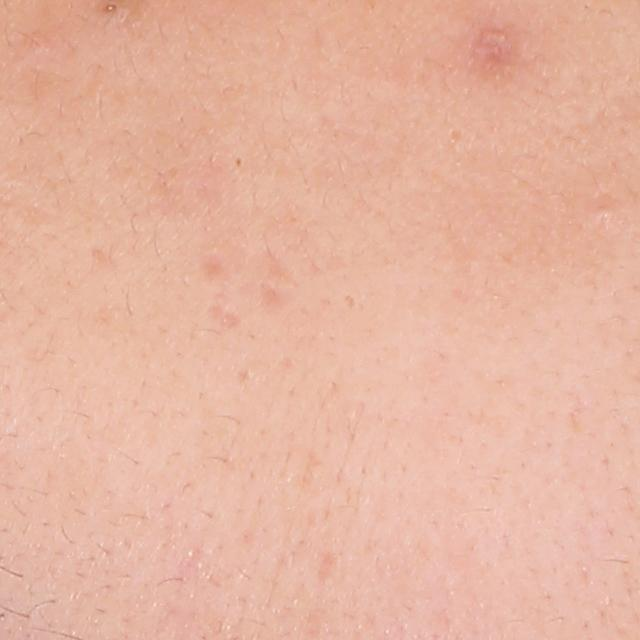atrophic_scar: (206, 304, 246, 332), (260, 281, 296, 311), (199, 256, 229, 279)
comedo: (595, 198, 624, 223), (230, 151, 250, 173)
